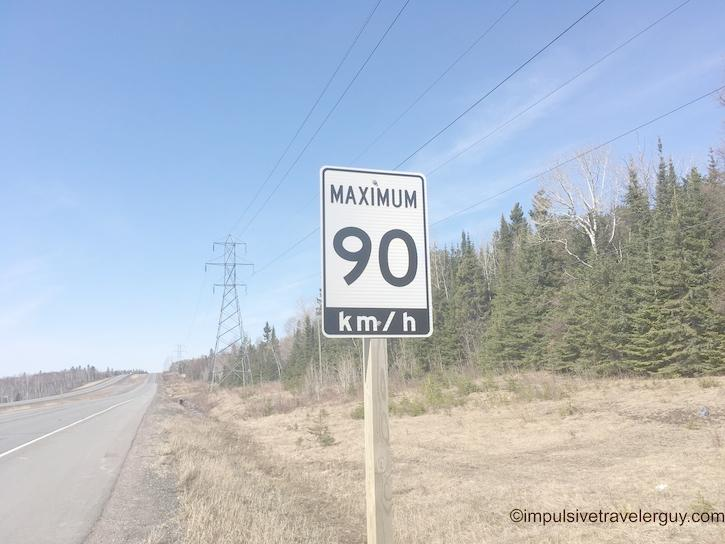speed limit sign: (318, 164, 428, 337)
